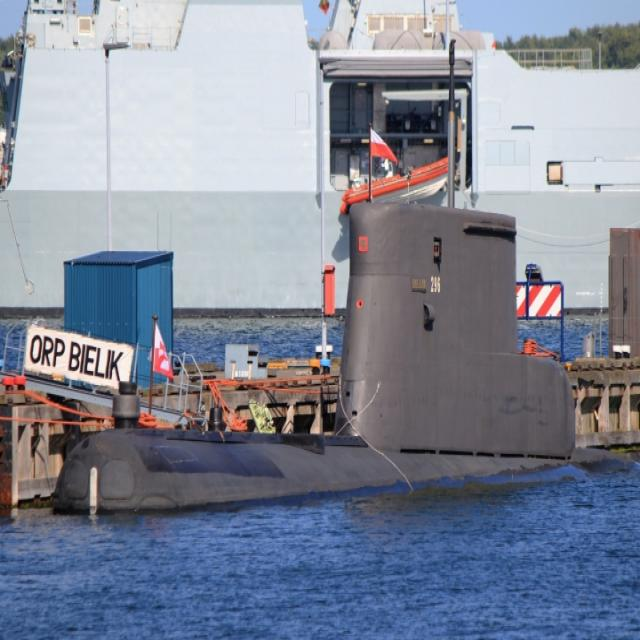submarine: (55, 192, 577, 511)
